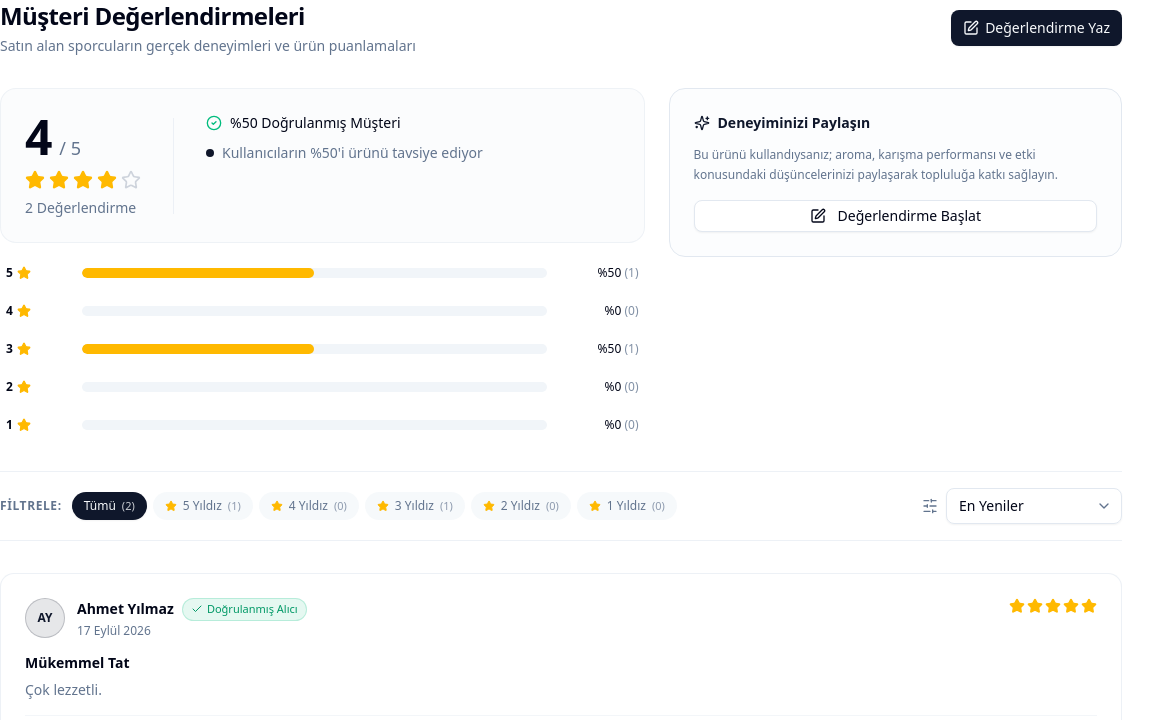
Test case: ProductReviewsSection Component › opens review form modal when authenticated user clicks write review button
This screenshot has width=1152, height=720.
Click the button "Değerlendirme Yaz": (1037, 28) [951, 10, 1122, 46]
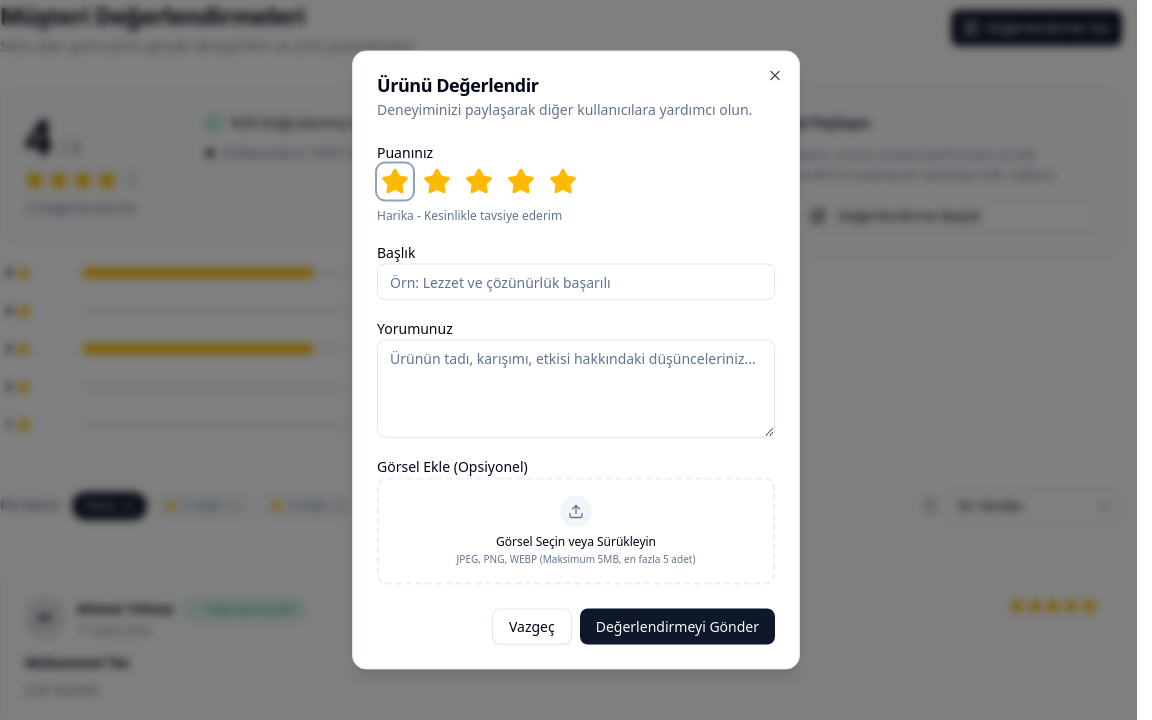
Now the heading "Ürünü Değerlendir" is shown, box [377, 72, 538, 96]
